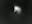person: (14, 6, 23, 17)
